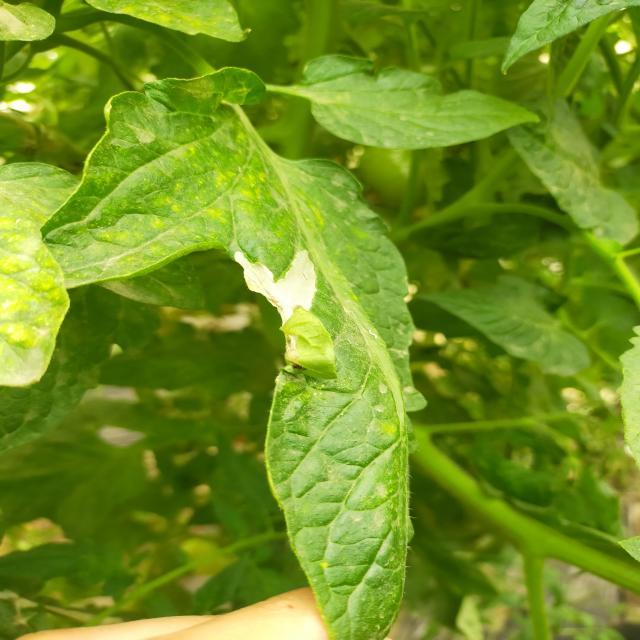Tuta absoluta: (231, 222, 332, 331)
